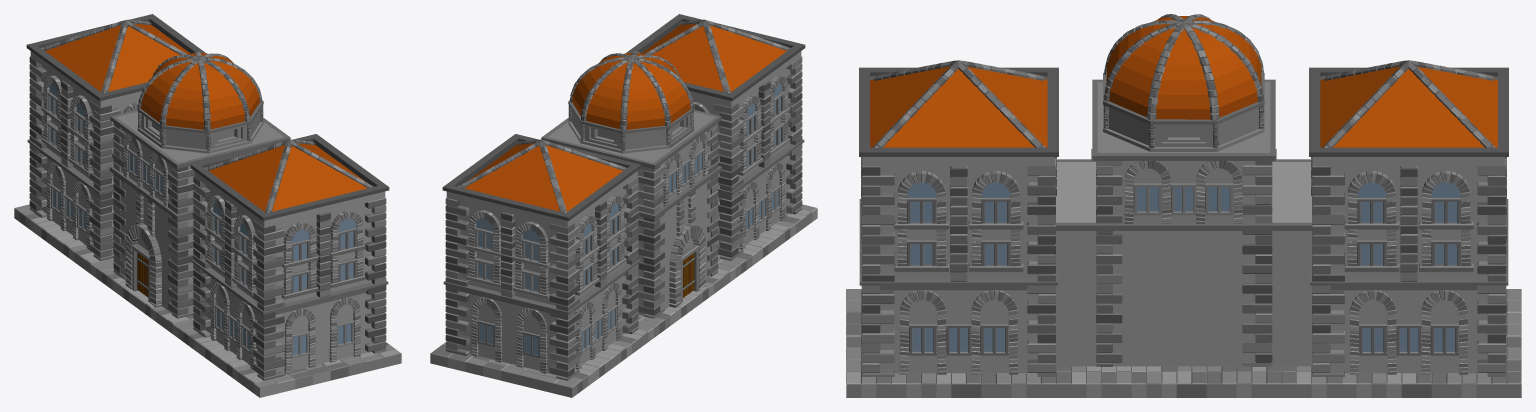
Rendered from castle_town_manor_1.fbx.
3 views of the same model, side by side, from view 1: azimuth 30°, elevation 25°; view 2: azimuth 150°, elevation 25°; view 3: azimuth 270°, elevation 25° (orthographic). The views are drawn at different scales.
Visible parts, largest first — view 1: Cube.002; view 2: Cube.002; view 3: Cube.002.
Boxes of the visible parts, x1,y1,x2,y2 form: Cube.002: [14, 14, 401, 397]; Cube.002: [430, 14, 817, 397]; Cube.002: [846, 14, 1521, 397].
Bounding box in the file's own units: 17991 × 9497 × 5998.
